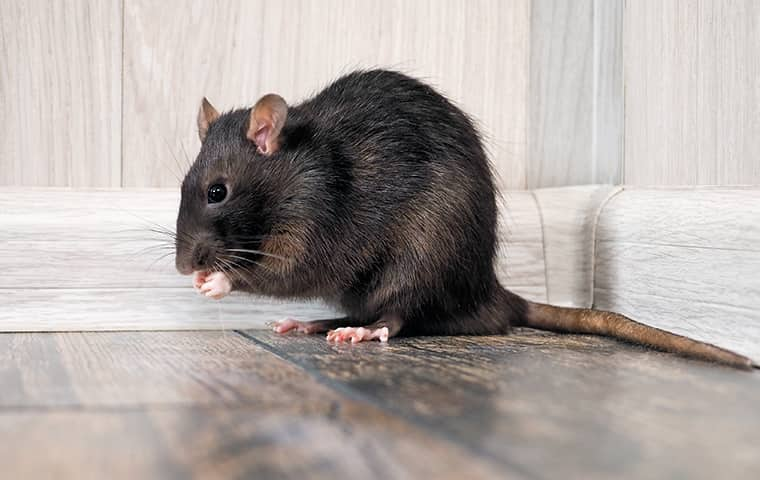rat: (166, 62, 541, 346)
